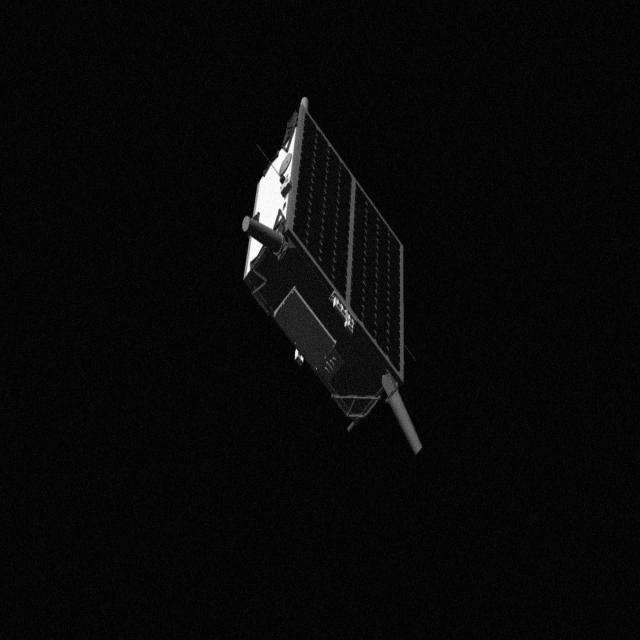satellite: (242, 90, 430, 460)
